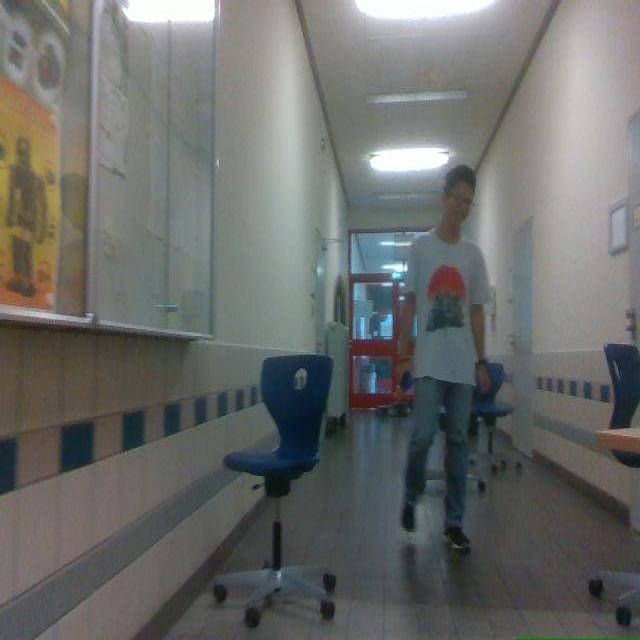humans: (398, 164, 490, 551)
objects: (224, 355, 332, 508), (213, 515, 335, 627), (597, 343, 639, 467), (589, 571, 639, 624)
